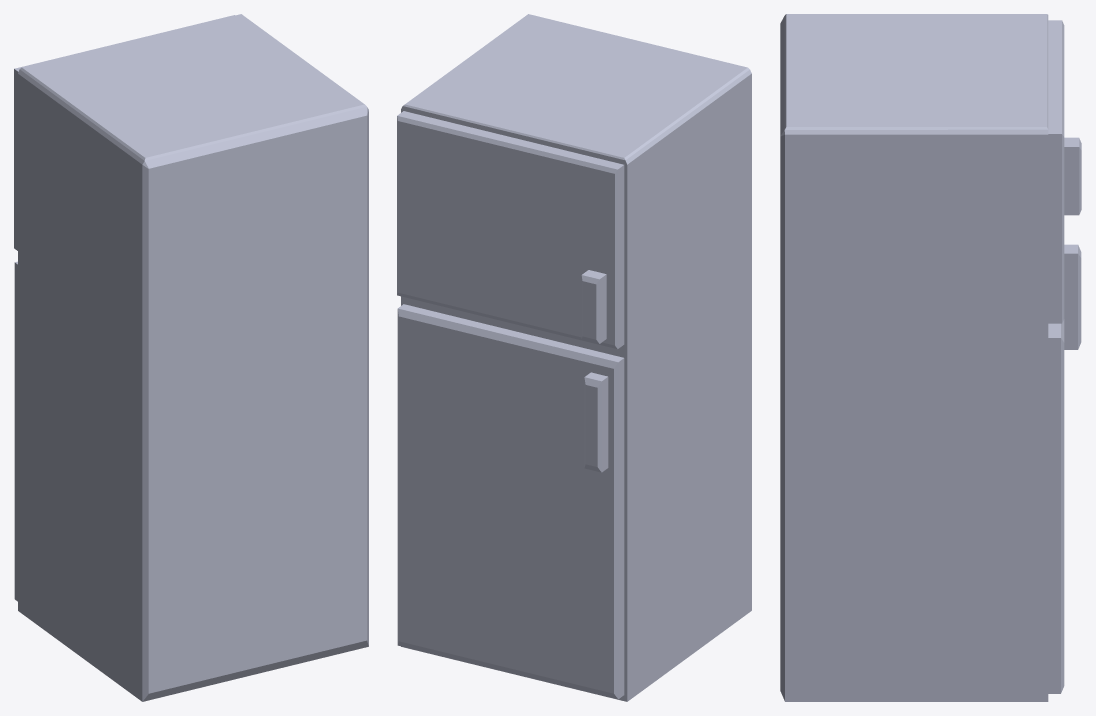
The model's file is Fridge.fbx.
The picture shows the model from 3 angles, left to right: view 1: azimuth 30°, elevation 25°; view 2: azimuth 150°, elevation 25°; view 3: azimuth 270°, elevation 25°; orthographic projection. The views are drawn at different scales.
Parts seen in each view (by area): view 1: Cube; view 2: Cube; view 3: Cube.
Boxes of the visible parts, <box> form: Cube: <box>14,14,368,701</box>; Cube: <box>397,14,751,701</box>; Cube: <box>780,14,1081,701</box>.
Bounding box in the file's own units: 185 × 425 × 203.
